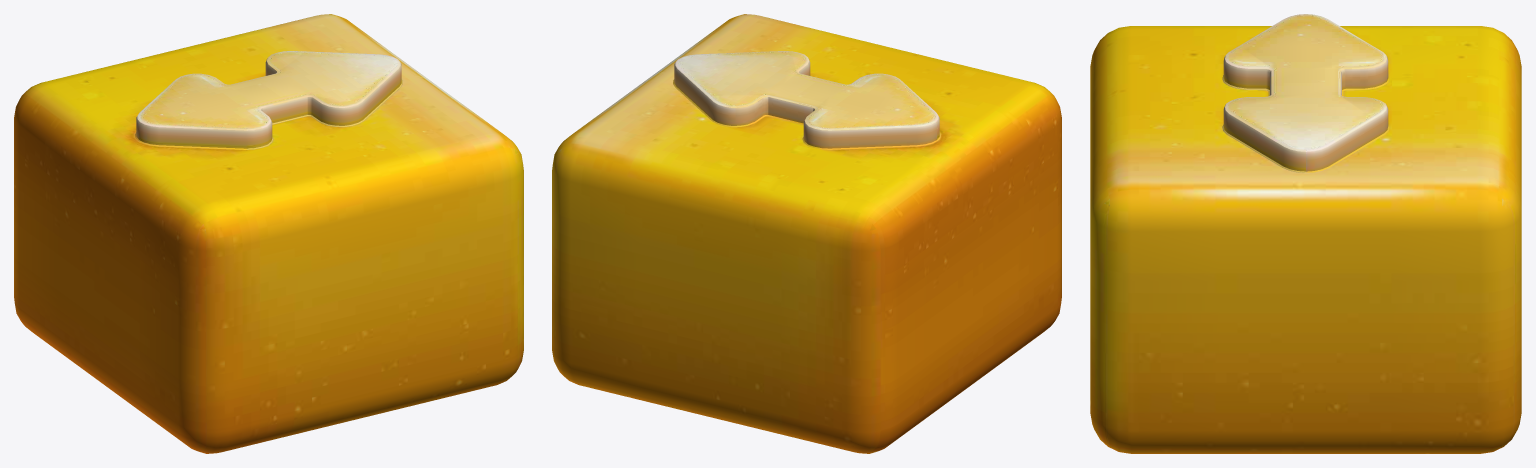
3 renders of one model, left to right at view 1: azimuth 30°, elevation 25°; view 2: azimuth 150°, elevation 25°; view 3: azimuth 270°, elevation 25°, orthographic. The views are drawn at different scales.
Parts seen in each view (by area): view 1: Cube1New; view 2: Cube1New; view 3: Cube1New.
Boxes of the visible parts, x1,y1,x2,y2 form: Cube1New: [14, 14, 523, 453]; Cube1New: [552, 14, 1061, 453]; Cube1New: [1090, 14, 1521, 453].
Bounding box in the file's own units: 100 × 75.38 × 100.
